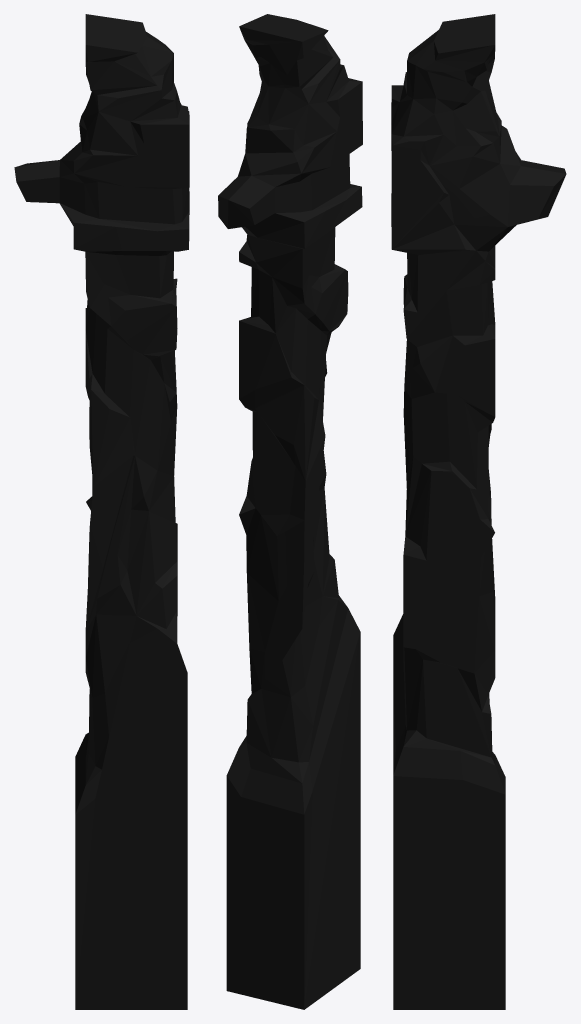
The model's file is pit_pillar_a.gltf.
3 renders of one model, left to right at view 1: azimuth 90°, elevation 25°; view 2: azimuth 150°, elevation 25°; view 3: azimuth 270°, elevation 25°, orthographic.
Visible parts, largest first — view 1: pit_pillar_a; view 2: pit_pillar_a; view 3: pit_pillar_a.
Boxes of the visible parts, x1,y1,x2,y2 form: pit_pillar_a: (14,14,189,1009); pit_pillar_a: (218,14,362,1009); pit_pillar_a: (391,14,566,1009).
Size of the model in its own units: 2.47 by 28.23 by 4.66.
Materials: 1 (1 with a texture image).
